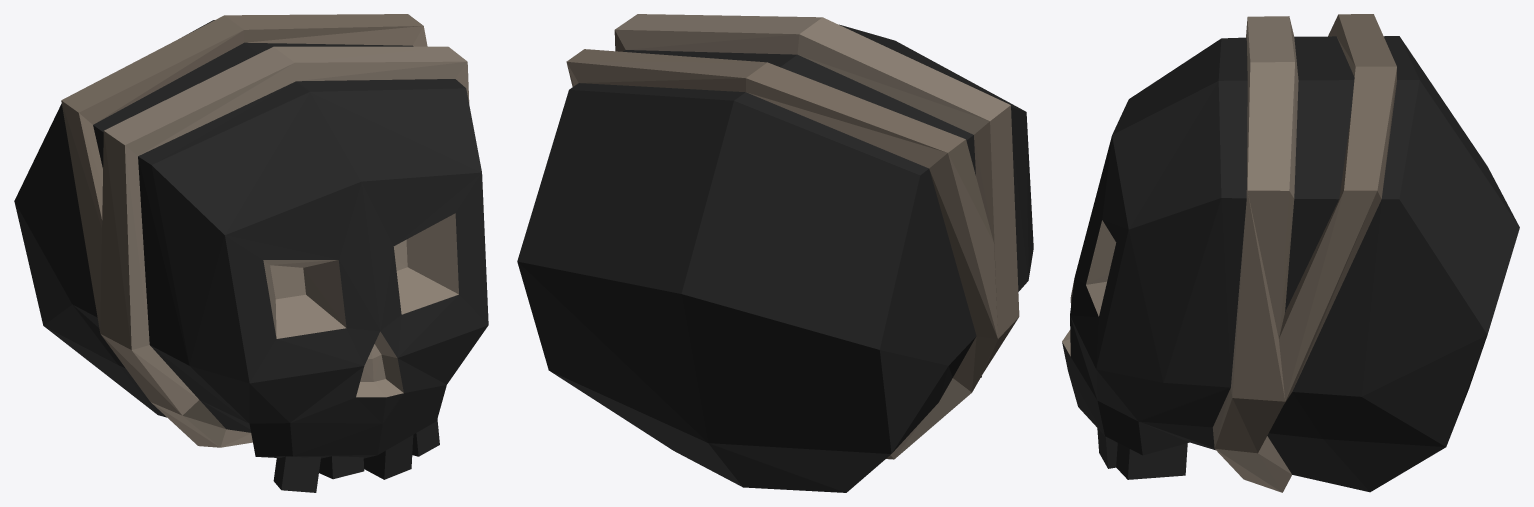
The model's file is SM_Item_Skull_Attachment_01.glb.
The picture shows the model from 3 angles, left to right: view 1: azimuth 30°, elevation 25°; view 2: azimuth 150°, elevation 25°; view 3: azimuth 270°, elevation 25°; orthographic projection. The views are drawn at different scales.
Parts seen in each view (by area): view 1: SM_Item_Skull_Attachment_01_00; view 2: SM_Item_Skull_Attachment_01_00; view 3: SM_Item_Skull_Attachment_01_00.
Boxes of the visible parts, bbox=[...] form: SM_Item_Skull_Attachment_01_00: bbox=[14, 14, 488, 492]; SM_Item_Skull_Attachment_01_00: bbox=[517, 14, 1033, 492]; SM_Item_Skull_Attachment_01_00: bbox=[1062, 14, 1519, 492].
Bounding box in the file's own units: 0.1413 × 0.1459 × 0.1517.
1 material, 1 textured.
